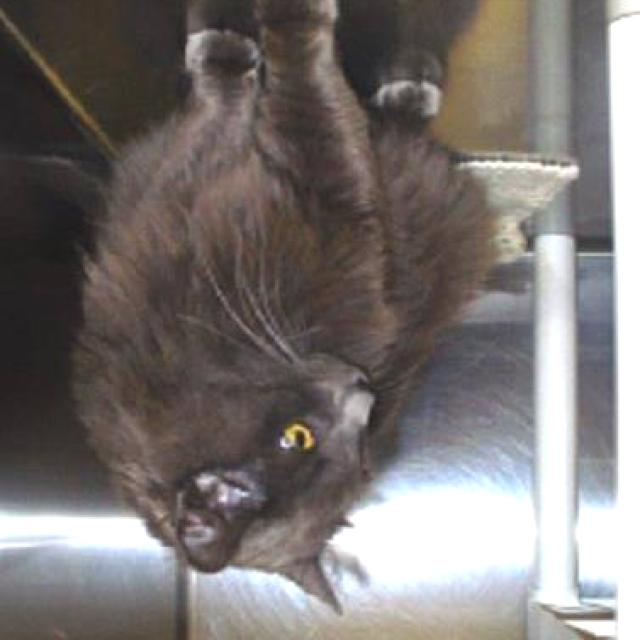Kucing: (39, 17, 579, 639)
